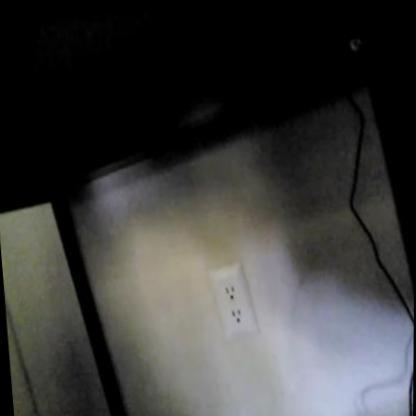OUTLET: (212, 260, 261, 342)
